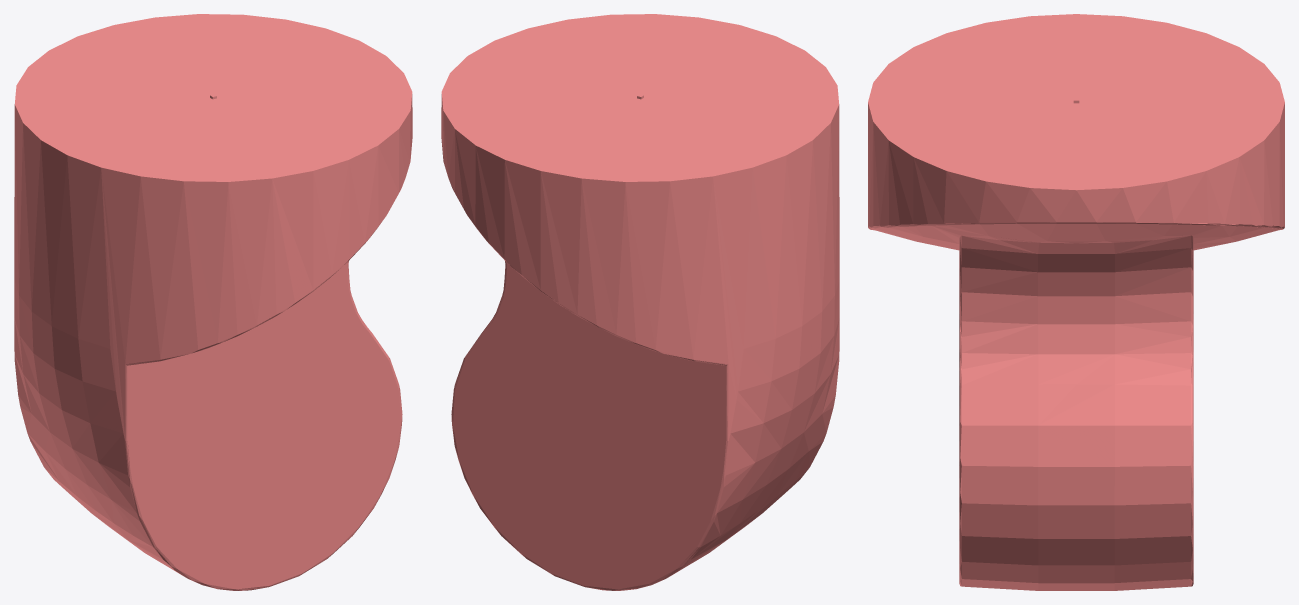
Rendered from body2_1.obj.
3 views of the same model, side by side, from view 1: azimuth 30°, elevation 25°; view 2: azimuth 150°, elevation 25°; view 3: azimuth 270°, elevation 25° (orthographic). The views are drawn at different scales.
Parts seen in each view (by area): view 1: Body1.003; view 2: Body1.003; view 3: Body1.003.
Part boxes in pixels (left/top/right/bottom): Body1.003: left=14, top=14, right=412, bottom=590; Body1.003: left=441, top=14, right=839, bottom=590; Body1.003: left=868, top=14, right=1284, bottom=590.
Bounding box in the file's own units: 156 × 197 × 156.
